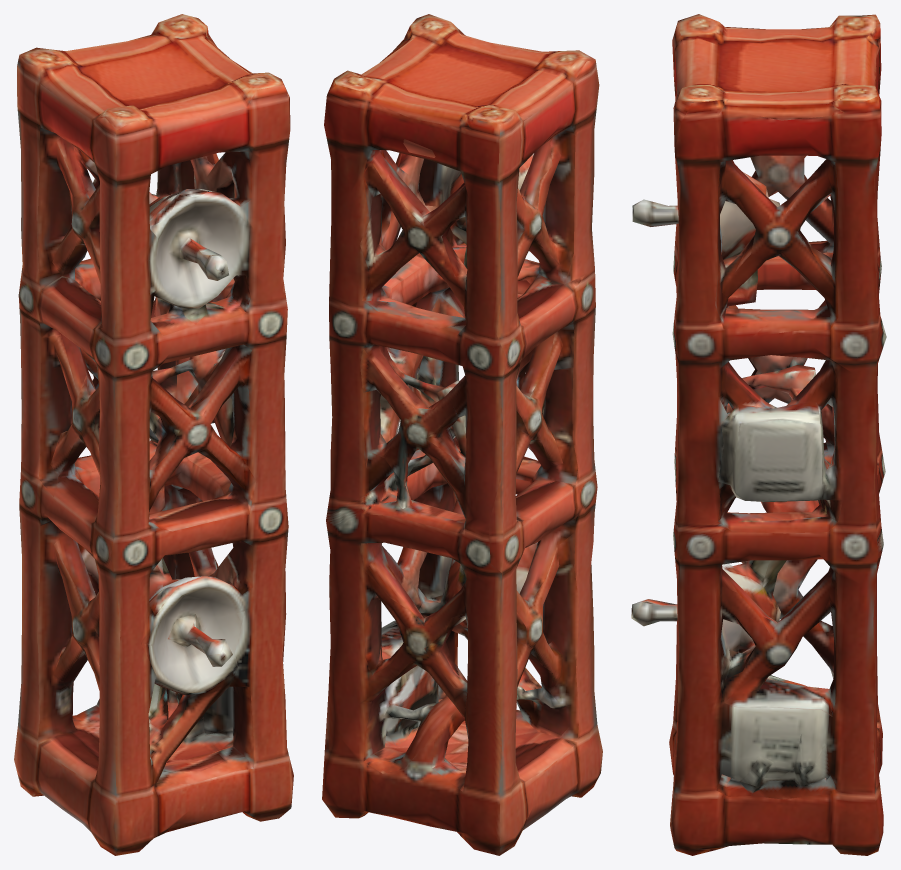
File: 남산_하부안테나_빨강.glb
3 renders of one model, left to right at view 1: azimuth 30°, elevation 25°; view 2: azimuth 150°, elevation 25°; view 3: azimuth 270°, elevation 25°, orthographic. The views are drawn at different scales.
Parts seen in each view (by area): view 1: texture_mapping; view 2: texture_mapping; view 3: texture_mapping.
Part boxes in pixels (x1,y1,x2,y2): texture_mapping: (14, 14, 293, 855); texture_mapping: (322, 14, 602, 855); texture_mapping: (631, 14, 886, 855).
Size of the model in its own units: 0.2844 by 1 by 0.3072.
Materials: 1 (1 with a texture image).
